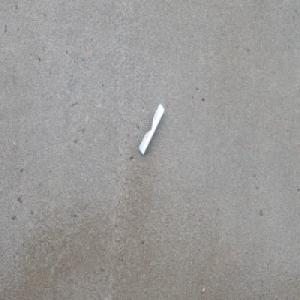ClampPart: (139, 102, 166, 156)
